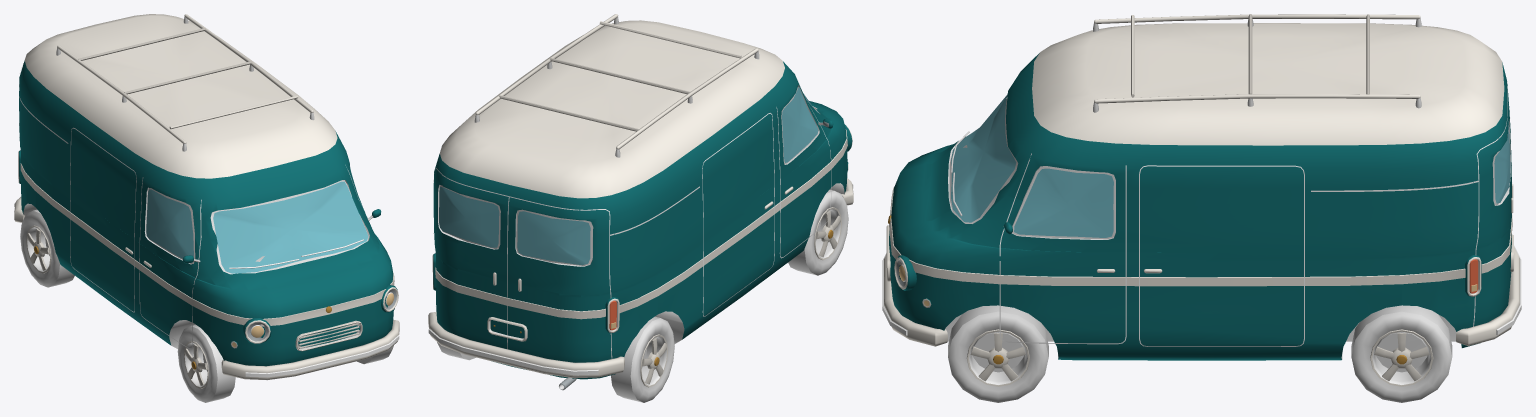
Rendered from city_car_b.fbx.
3 views of the same model, side by side, from view 1: azimuth 30°, elevation 25°; view 2: azimuth 150°, elevation 25°; view 3: azimuth 270°, elevation 25° (orthographic). The views are drawn at different scales.
Visible parts, largest first — view 1: Body, Wheel_FR, Wheel_RR; view 2: Body, Wheel_RR, Wheel_FR; view 3: Body, Wheel_RL, Wheel_FL.
Boxes of the visible parts, x1,y1,x2,y2 form: Body: [14, 14, 399, 380]; Wheel_FR: [177, 324, 235, 402]; Wheel_RR: [20, 209, 74, 287]; Body: [428, 14, 853, 390]; Wheel_RR: [611, 316, 674, 402]; Wheel_FR: [788, 189, 848, 275]; Body: [882, 14, 1521, 360]; Wheel_RL: [1351, 305, 1452, 402]; Wheel_FL: [948, 305, 1048, 402].
Bounding box in the file's own units: 1.74 × 1.93 × 3.8.
